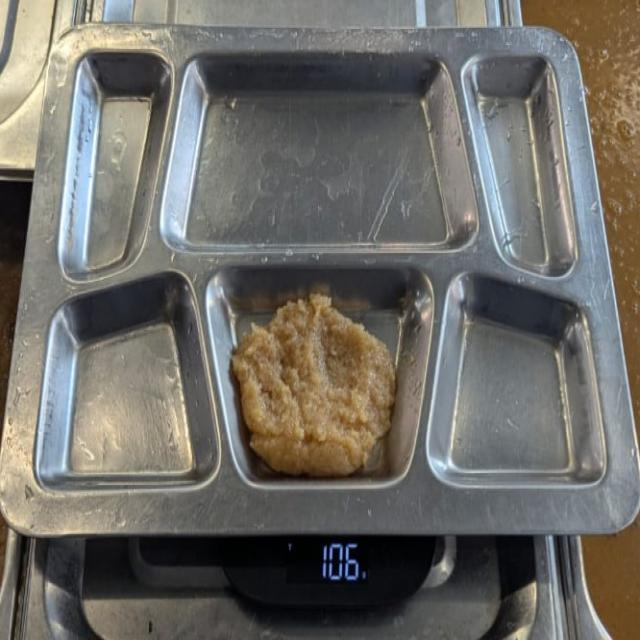Halwa: (230, 294, 394, 476)
